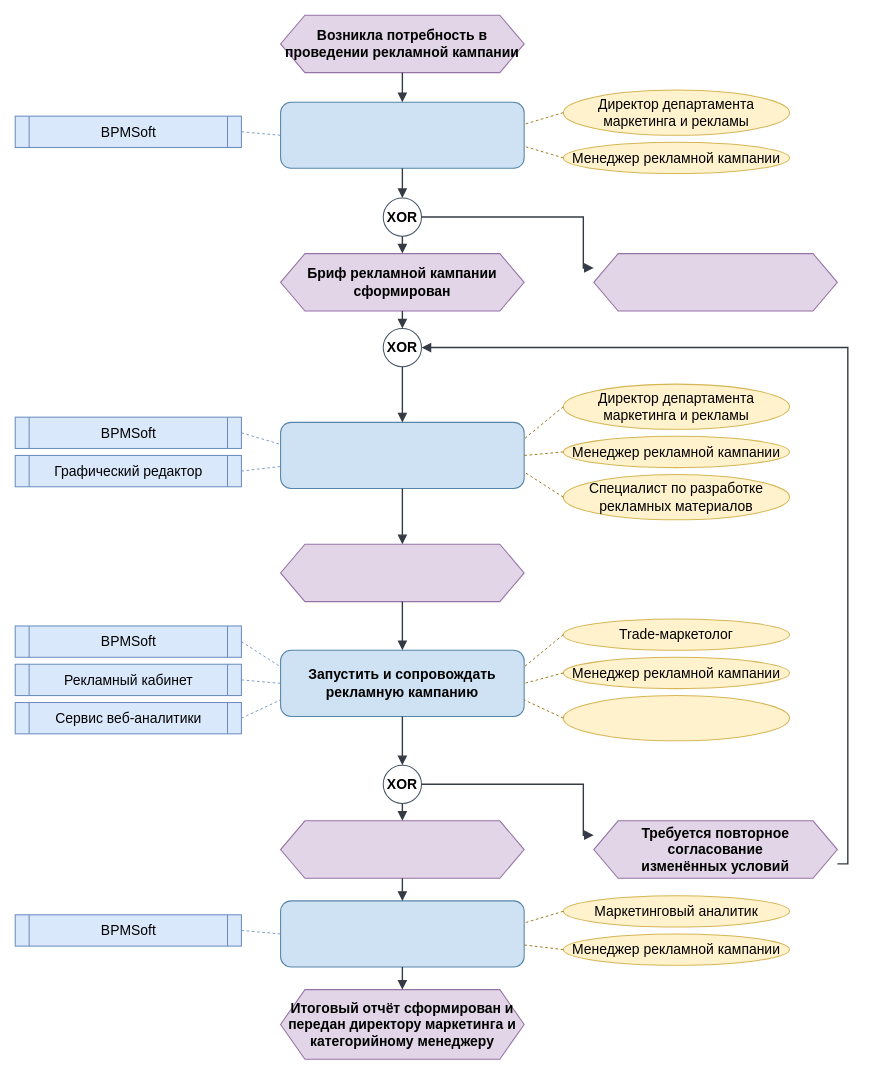
Some shapes in this 872 by 1075 pixel diagram are drawn without their labels. Here are the shapes that lost their labels. From the top down, the box of each, then its label:
(280, 101, 524, 168): Подготовить рекламную кампанию
(593, 253, 837, 311): Оформлено решение об отказе от проведения кампании
(280, 421, 524, 489): Разработать рекламную кампанию
(280, 543, 524, 602): Медиаплан и рекламные материалы согласованы
(562, 695, 790, 741): Специалист digital-коммуникаций
(280, 820, 524, 878): Период кампании завершён; данные мониторинга подготовлены
(280, 900, 524, 967): Оценить результаты рекламной кампании
